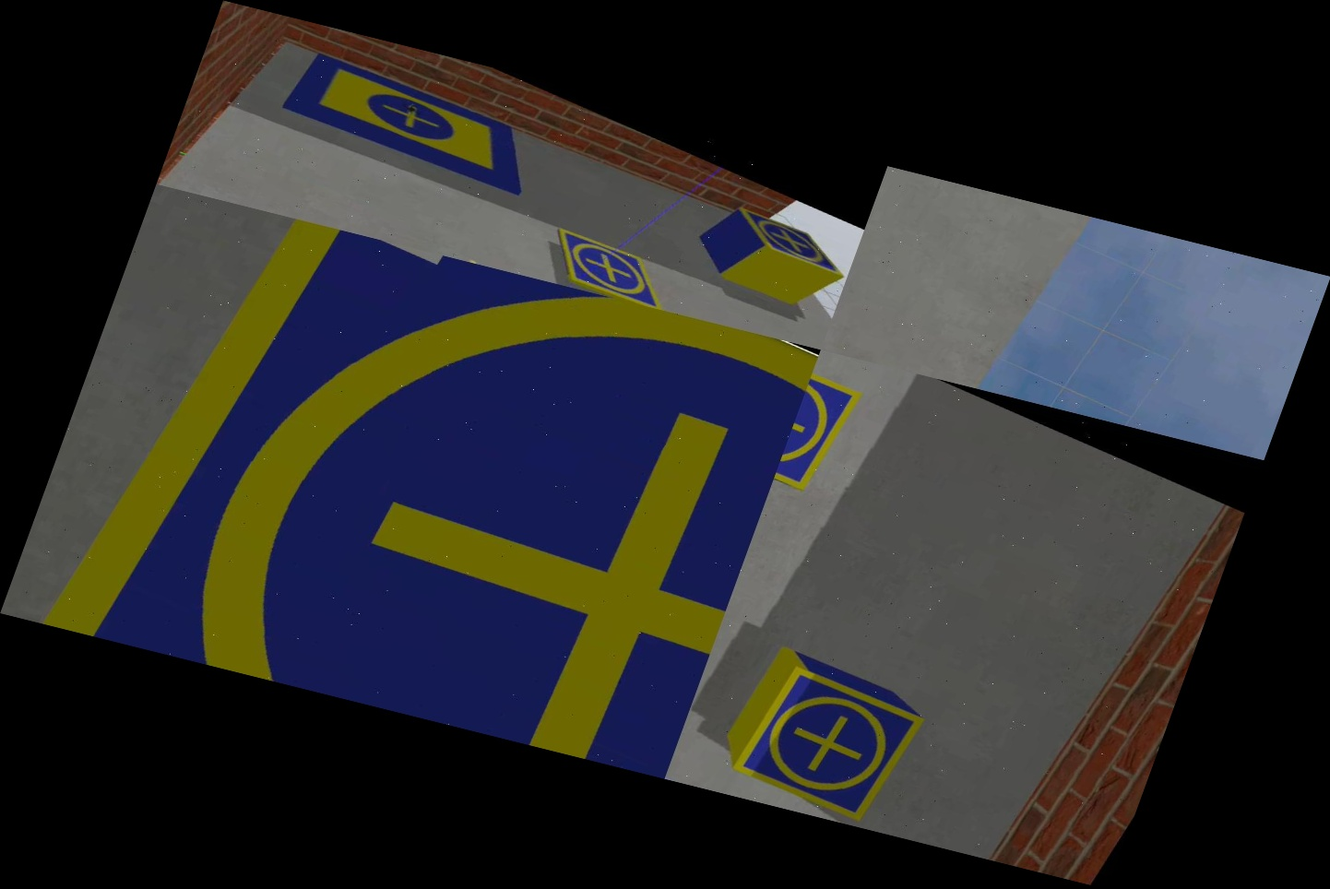large_base: (18, 188, 820, 778), (269, 41, 566, 206)
small_base: (718, 656, 934, 833), (530, 219, 694, 313), (771, 361, 871, 500), (720, 207, 861, 283)
